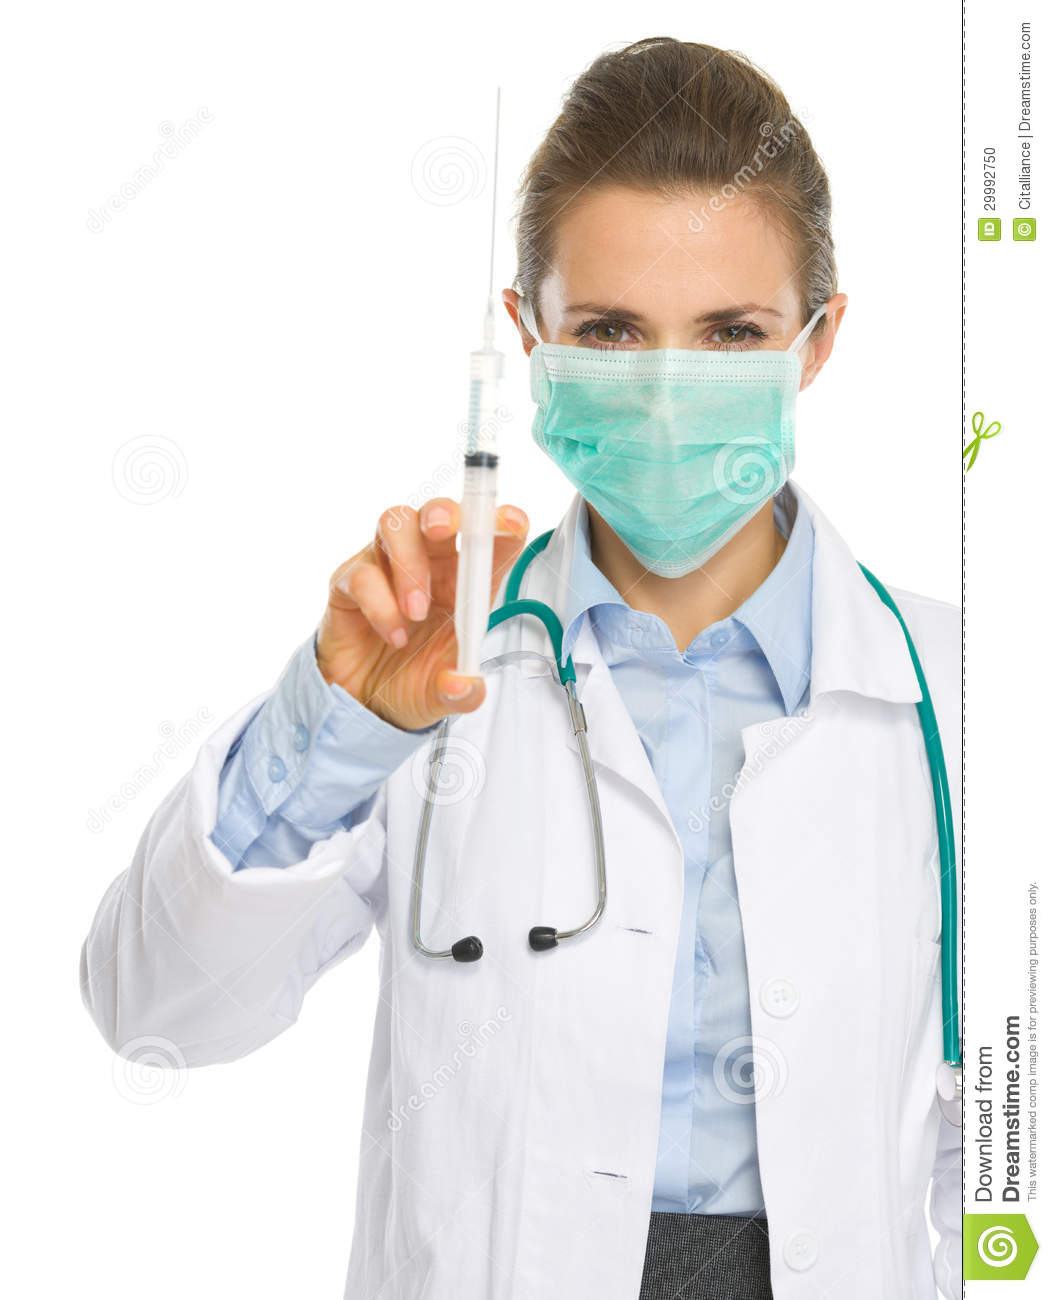mask: (526, 348, 798, 580)
